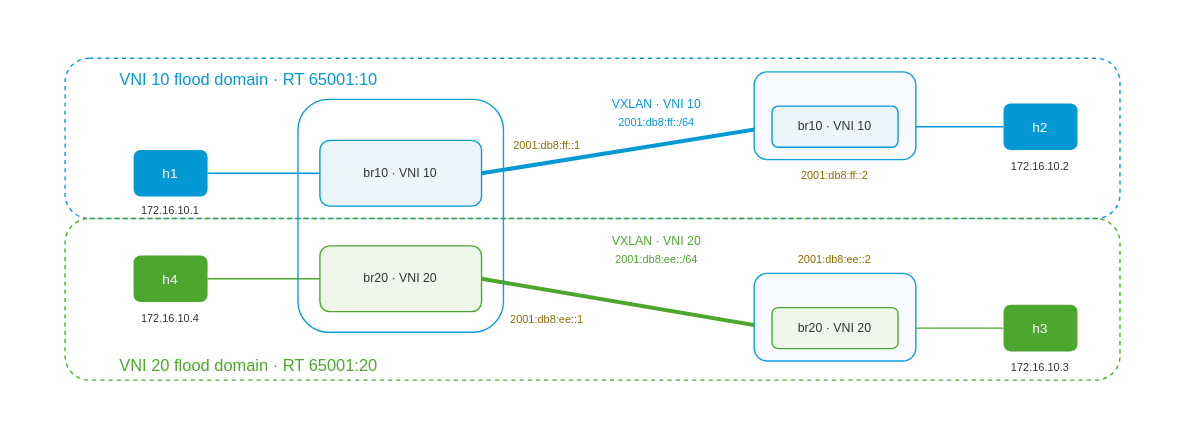
The diagram is 1184 pixels wide and 430 high, and some of its shapes have lost their labels. Each missing label, with the box of its shape:
vtep1: (297, 98, 503, 332)
vtep2: (753, 71, 916, 160)
vtep3: (753, 272, 916, 361)
